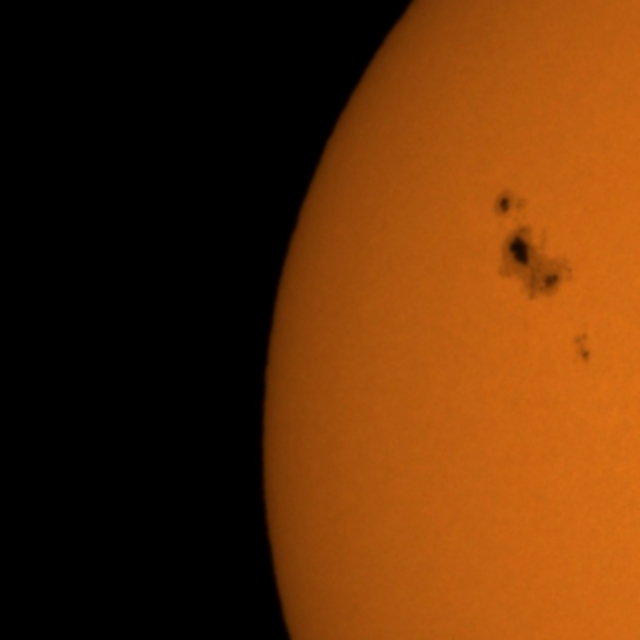sunspot: (487, 231, 569, 304), (492, 190, 530, 223), (571, 331, 593, 365)
